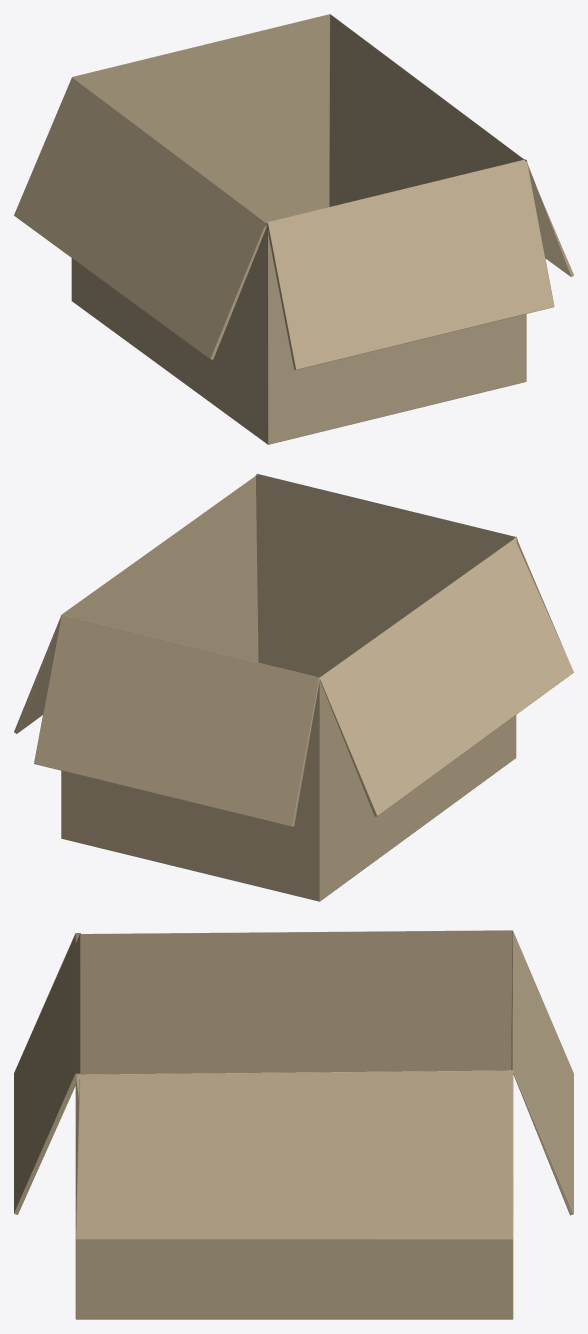
The model's file is opened-cardboard-box.glb.
The picture shows the model from 3 angles, top to bottom: view 1: azimuth 30°, elevation 25°; view 2: azimuth 150°, elevation 25°; view 3: azimuth 270°, elevation 25°; orthographic projection. The views are drawn at different scales.
Visible parts, largest first — view 1: Box; view 2: Box; view 3: Box.
Part boxes in pixels (box(x1,y1,x2,y2)): Box: box(14, 14, 573, 444); Box: box(14, 473, 573, 901); Box: box(14, 930, 573, 1319).
Size of the model in its own units: 0.534 by 0.3145 by 0.6401.
